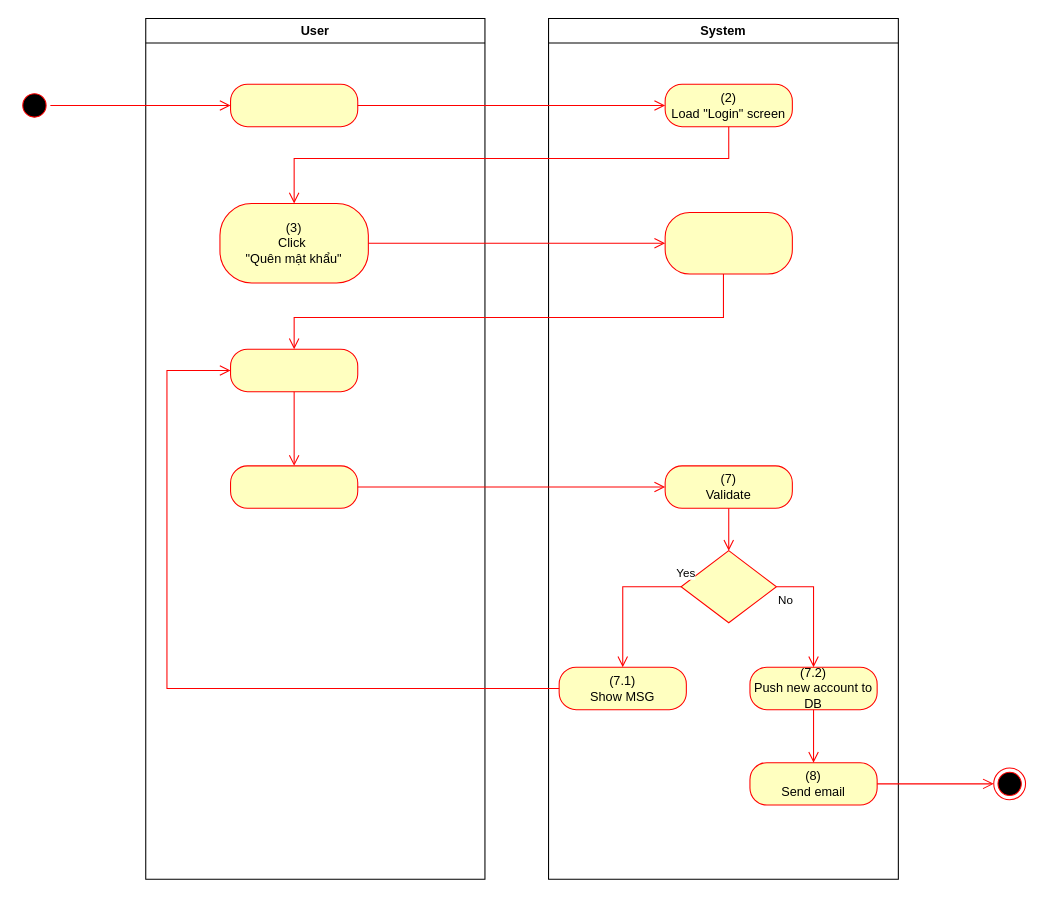
Some shapes in this 1044 by 898 pixel diagram are drawn without their labels. Each missing label, with the centre of its shape:
(1) Open app: (x=293, y=105)
(4) Load "Forget password screen": (x=728, y=242)
(5) Giving several input: (x=293, y=370)
(6) Click "Xác nhận": (x=293, y=486)
